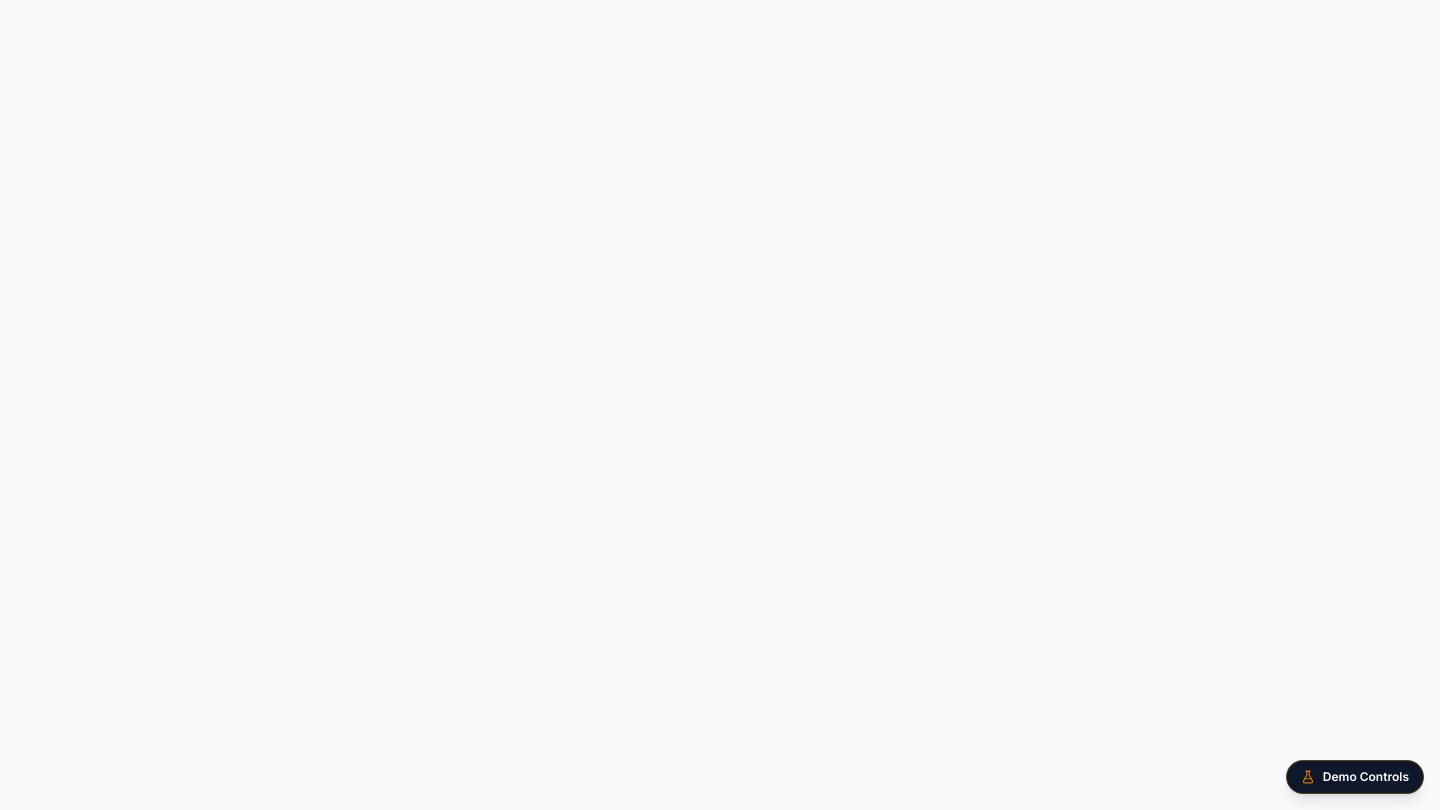
Phase 5 features — DemoControlsDrawer & SettingsView › triggers file and DB tamper simulations and clears state cleanly
The width and height of the screenshot is (1440, 810).
Click the button "Demo Controls": (1355, 777) [1286,760,1424,794]
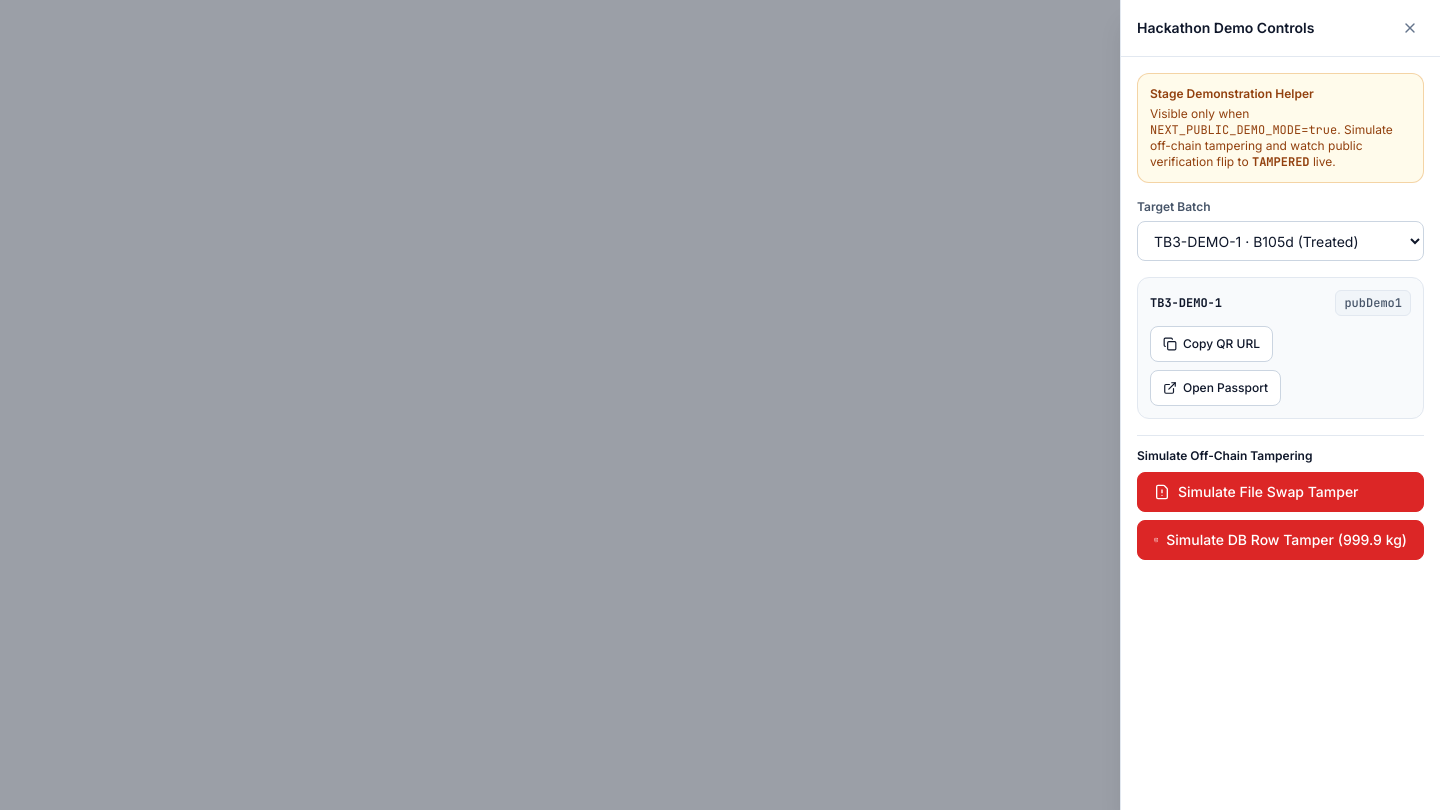
Check: the text "TB3-DEMO-1" is shown, box [1150,295,1222,311]
Click the button "Simulate File Swap Tamper": (1280, 492) [1137,472,1424,512]
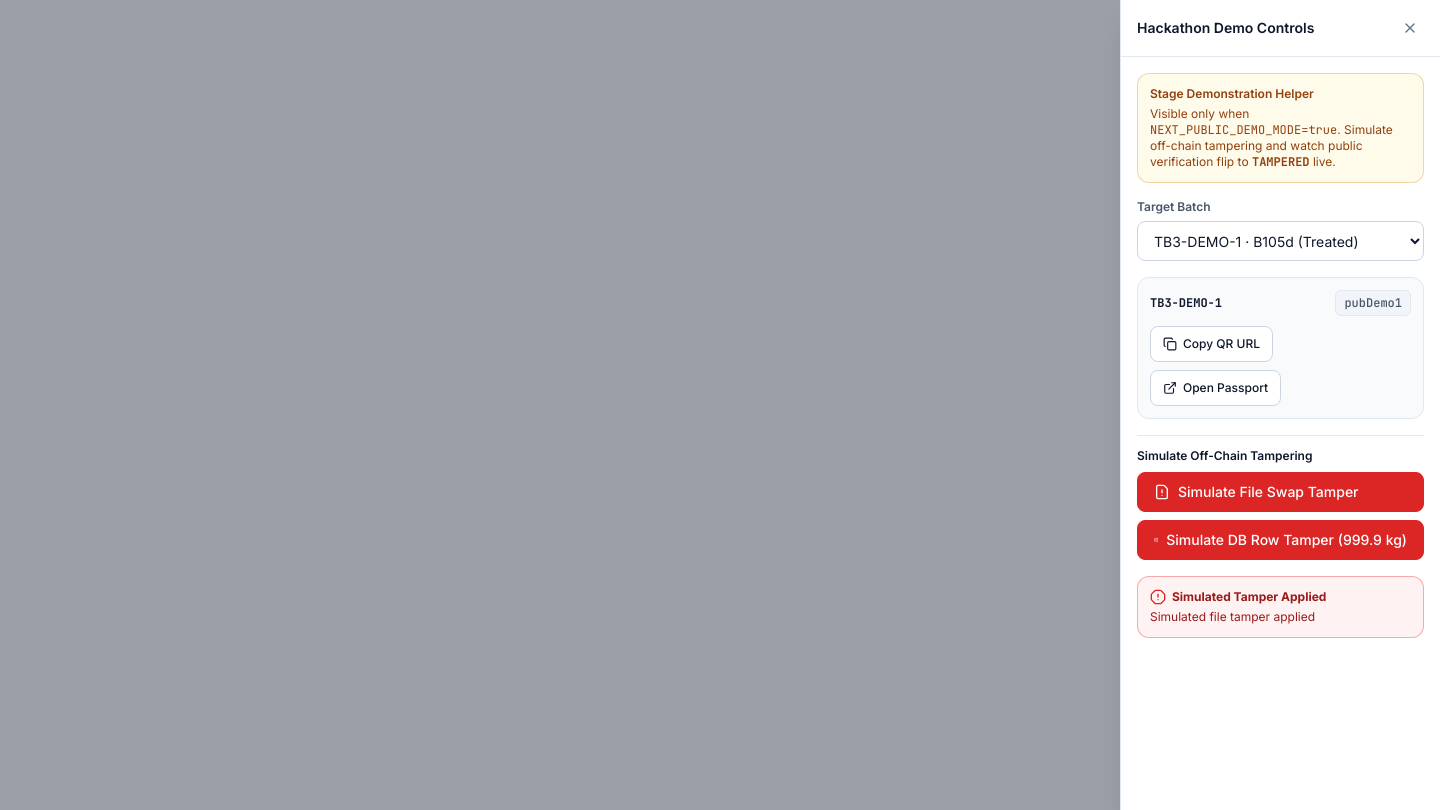
Check: the text "Simulated file tamper applied" is shown, box [1150,609,1315,624]
Click the button "Simulate DB Row Tamper (999.9 kg)": (1280, 540) [1137,520,1424,560]
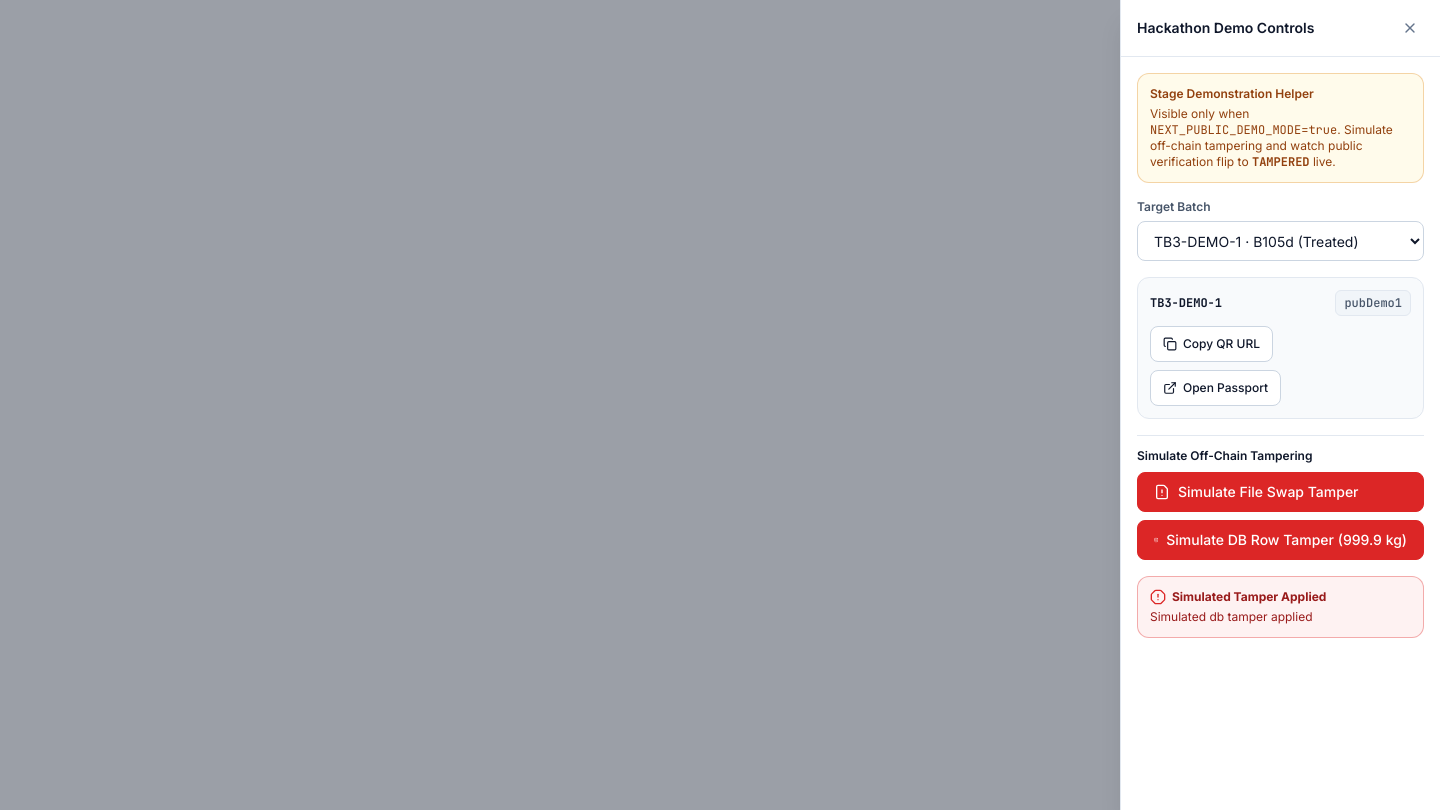
Check: the text "Simulated db tamper applied" is shown, box [1150,609,1312,624]
